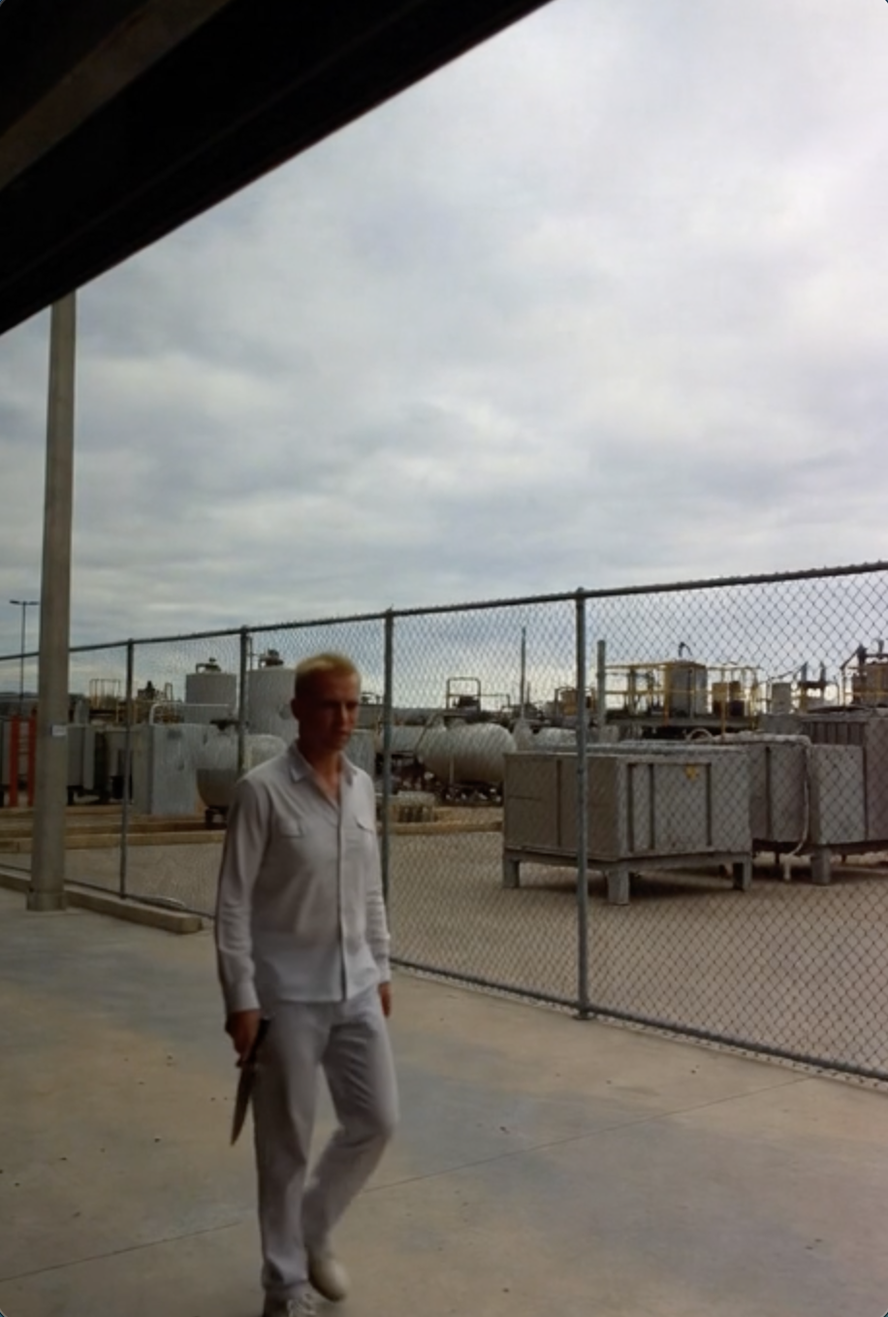Heavy Gun: (199, 655, 403, 1317)
Knife: (217, 1002, 279, 1146)
